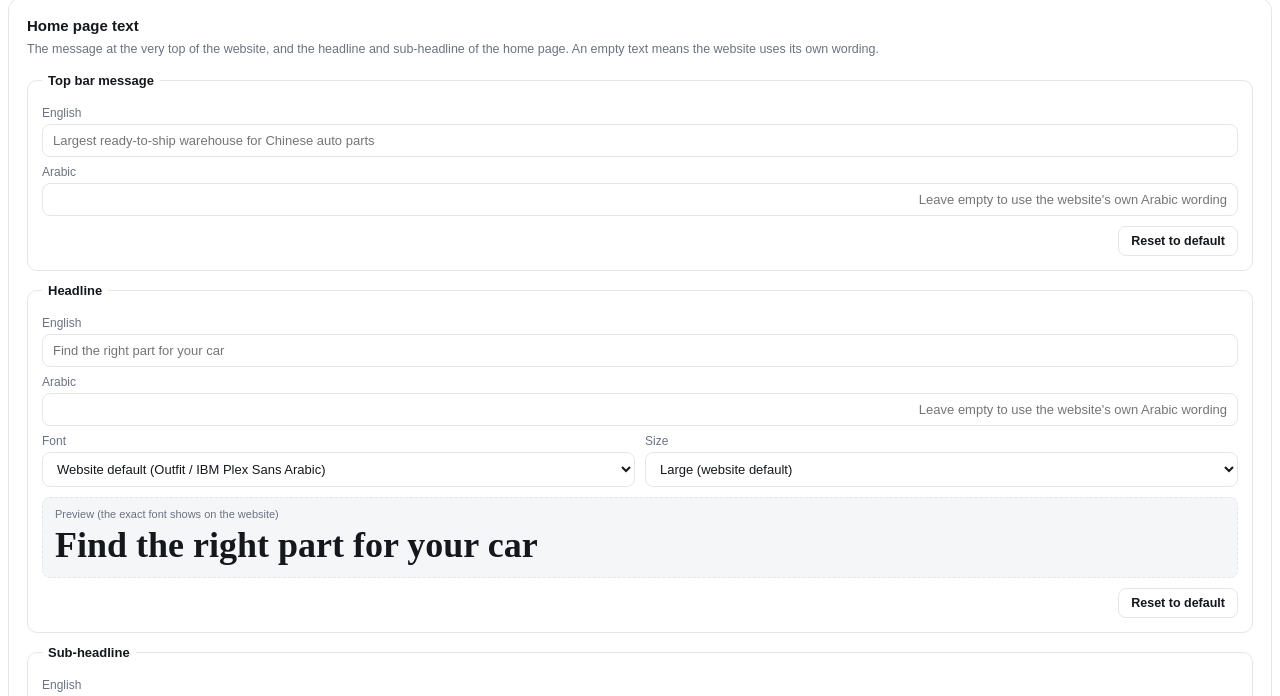
it: saving › Save is off until something changes
The image size is (1280, 696).
Check: the text "Top bar message" is shown, box [42,73,160,88]
Type "Hello" into the field labelled "English" below "Top bar message" at (640, 140), box [42,124,1238,157]
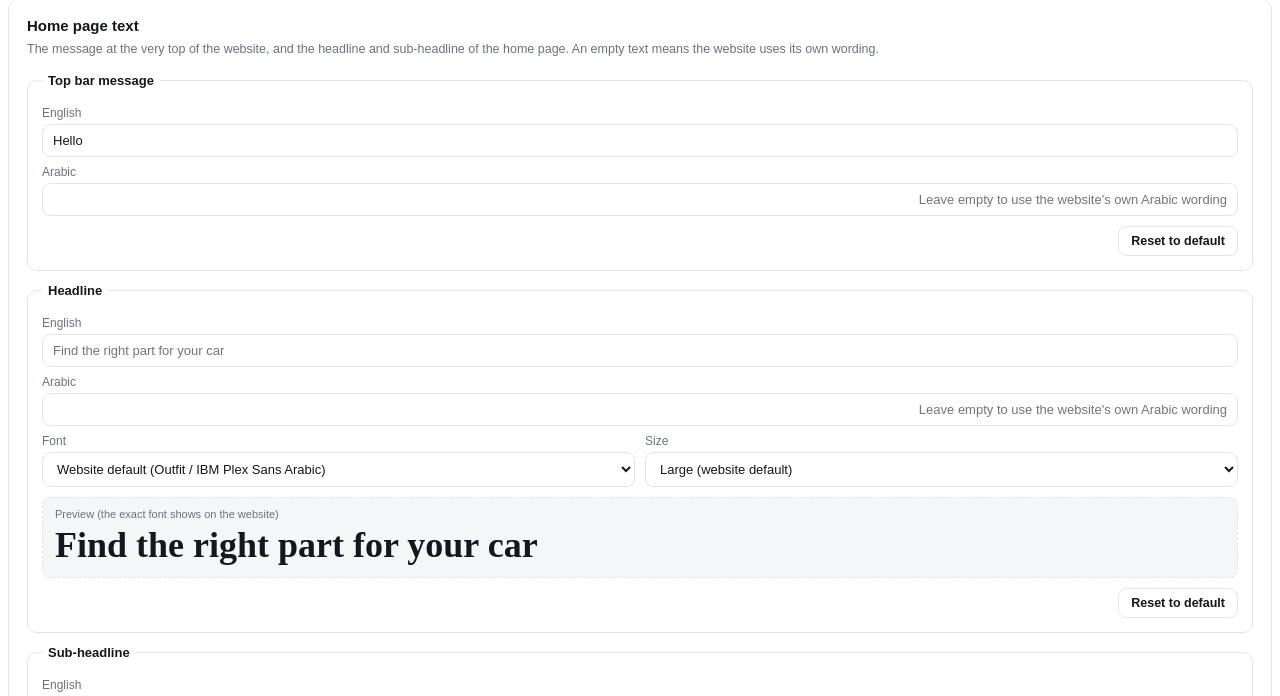
Clear the field labelled "English" below "Top bar message" at (640, 140), box [42,124,1238,157]
(page scrolled)
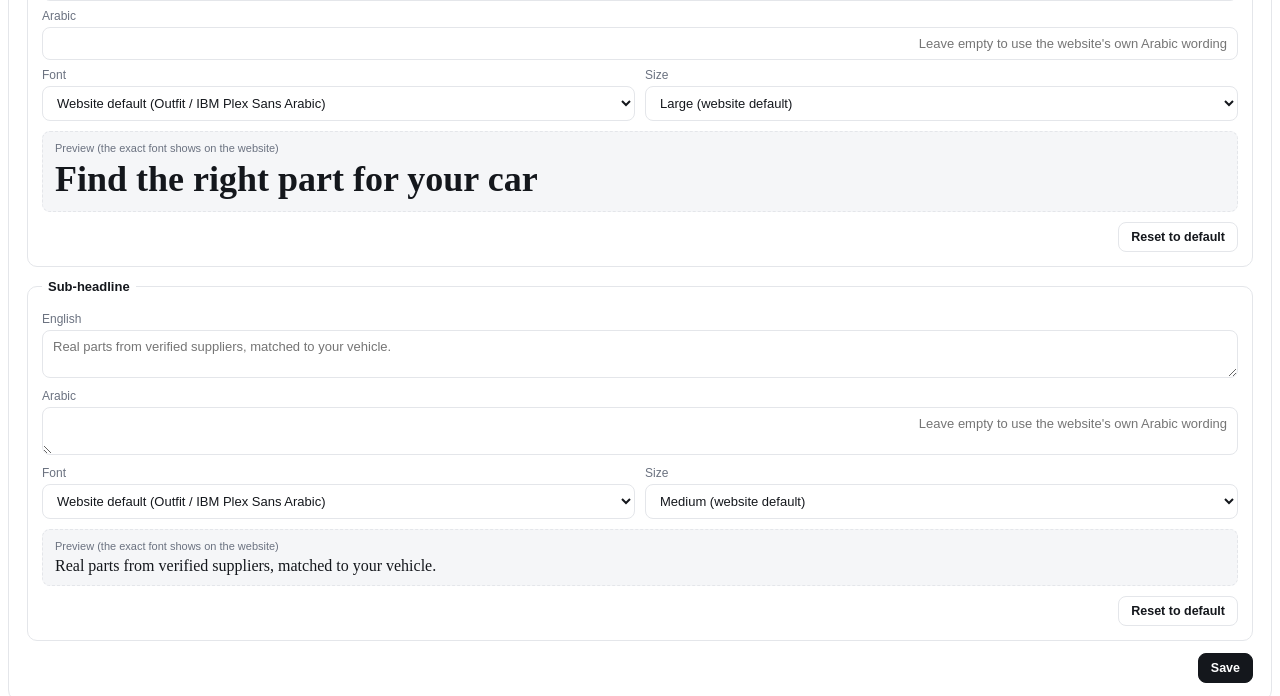
Check: the button "Save" is disabled, box [1198,653,1253,683]
